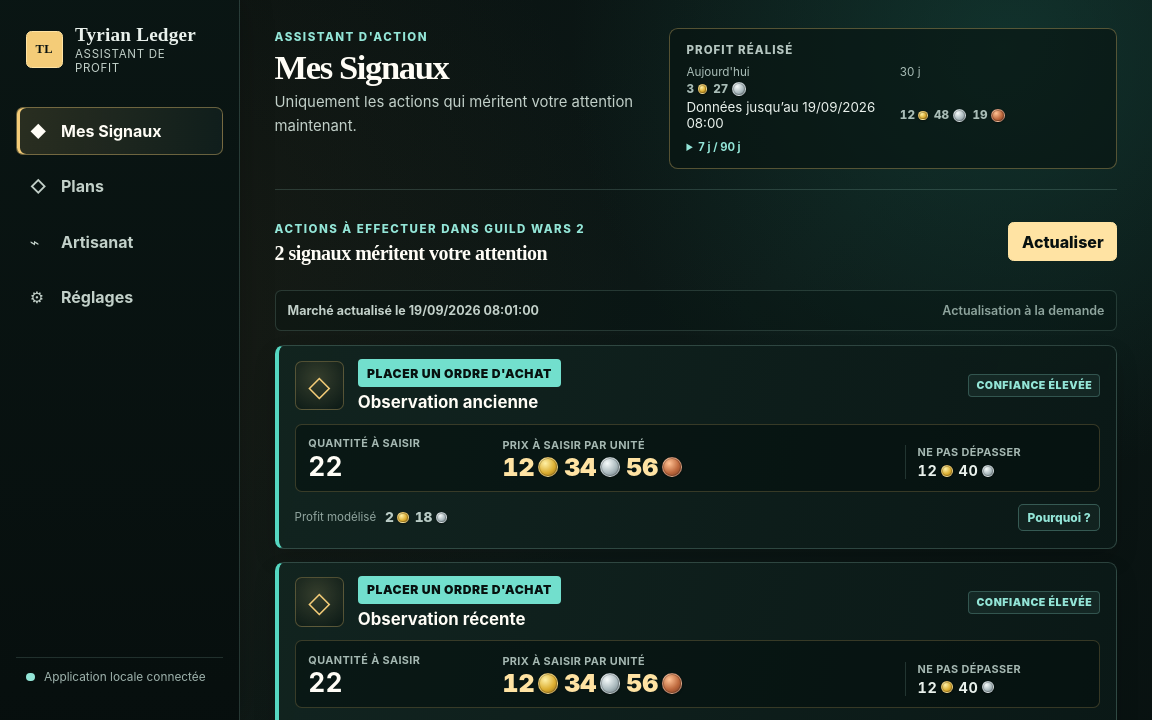
Test: Mes Signaux MVP › uses the most recent history observation in the aggregate freshness row
Click the heading "Marché actualisé": (413, 310) [288,303,1104,318]
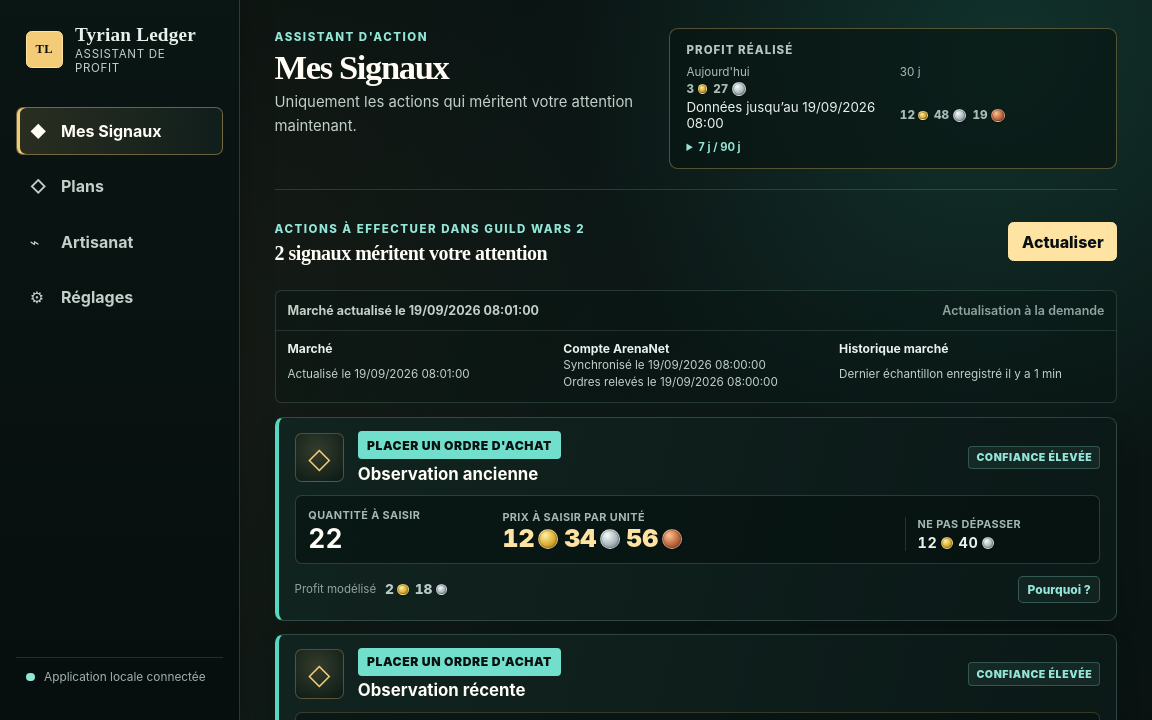
Now the text "Dernier échantillon enregistré il y a 1 min" is shown, box [839,367,1062,381]
